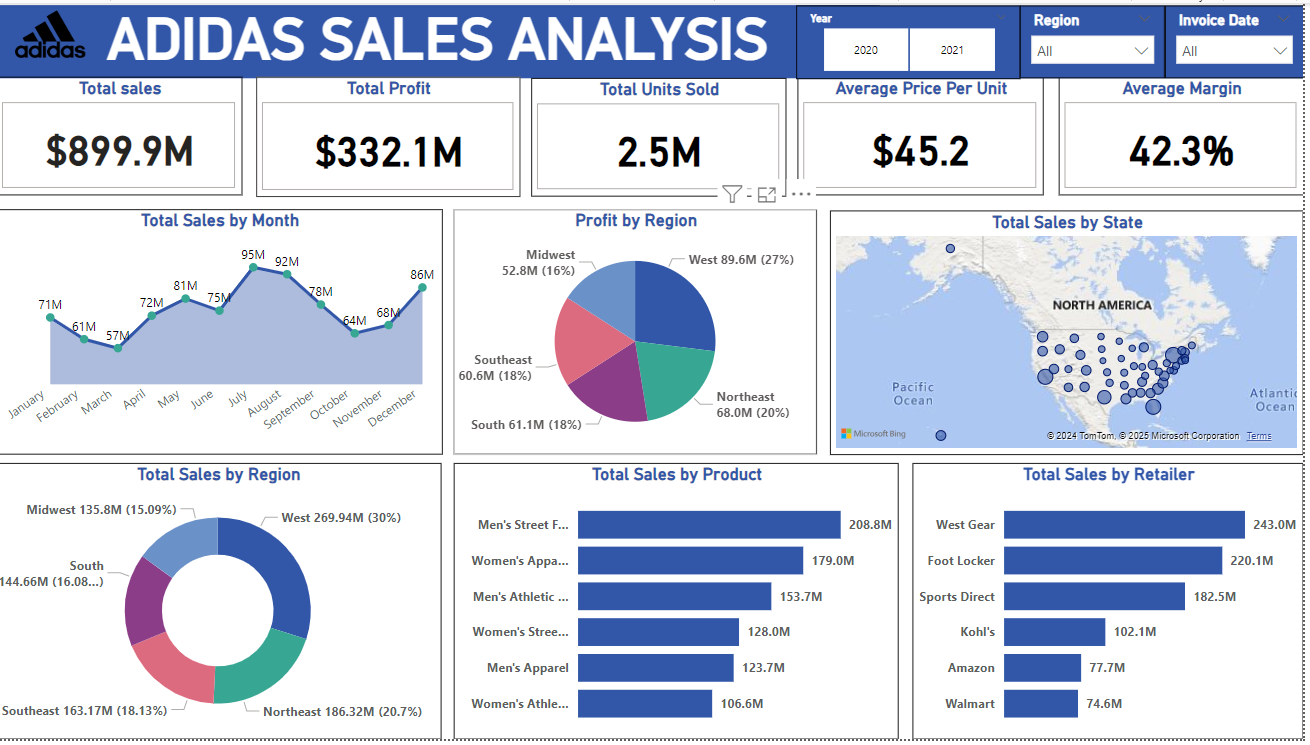

This screenshot's page, from the dashboard's own definition file:
{"tool":"powerbi","page":{"name":"Page 1","canvas":[1280,720],"ordinal":0},"visuals":[{"type":"textbox","title":"ADIDAS SALES ANALYSIS","box":[0,2.4,865.8,70.9],"z":0},{"type":"image","box":[1.2,2.4,106.4,56.3],"z":1000},{"type":"cardVisual","title":"Total sales","fields":{"Data":["Sum(Data Sales Adidas.Total Sales)"]},"box":[1.2,72.1,240.9,116.2],"z":2000},{"type":"cardVisual","title":"Total Units Sold","fields":{"Data":["Sum(Data Sales Adidas.Units Sold)"]},"box":[524.6,73.4,249.5,116.2],"z":3000},{"type":"cardVisual","title":"Total Profit","fields":{"Data":["Sum(Data Sales Adidas.Operating Profit)"]},"box":[255.6,72.1,258,117.4],"z":4000},{"type":"cardVisual","title":"Average Price Per Unit","fields":{"Data":["Data Sales Adidas.Average Price Per Unit"]},"box":[785.1,72.1,240.9,116.2],"z":5000},{"type":"cardVisual","title":"Average Margin","fields":{"Data":["Data Sales Adidas.Average Margin"]},"box":[1040.6,72.1,239.7,116.2],"z":6000},{"type":"stackedAreaChart","title":"Total Sales by Month","fields":{"Category":["Data Sales Adidas.Invoice Date.Variation.Date Hierarchy.Month"],"Y":["Sum(Data Sales Adidas.Total Sales)"]},"box":[1.2,201.8,436.6,239.7],"z":7000},{"type":"map","title":"Total Sales by State","fields":{"Category":["Data Sales Adidas.State"],"Size":["Sum(Data Sales Adidas.Total Sales)"]},"box":[816.7,203.3,463.3,238.9],"z":8000},{"type":"donutChart","title":"Total Sales by Region","fields":{"Y":["Sum(Data Sales Adidas.Total Sales)"],"Category":["Data Sales Adidas.Region"]},"box":[0,450,436.6,270.2],"z":9000},{"type":"clusteredBarChart","title":"Total Sales by Product","fields":{"Y":["Sum(Data Sales Adidas.Total Sales)"],"Category":["Data Sales Adidas.Product"]},"box":[448.8,450,435.3,270.2],"z":10000},{"type":"clusteredBarChart","title":"Total Sales by Retailer","fields":{"Y":["Sum(Data Sales Adidas.Total Sales)"],"Category":["Data Sales Adidas.Retailer"]},"box":[897.6,450,382.7,270.2],"z":11000},{"type":"slicer","fields":{"Values":["Data Sales Adidas.Region"]},"box":[1002.7,2.4,141.8,70.9],"z":12000},{"type":"slicer","fields":{"Values":["Data Sales Adidas.Invoice Date"]},"box":[1144.6,2.4,135.7,70.9],"z":13000},{"type":"pieChart","title":"Profit by Region","fields":{"Category":["Data Sales Adidas.Region"],"Y":["Sum(Data Sales Adidas.Operating Profit)"]},"box":[448.9,202.2,355.6,240],"z":14000},{"type":"slicer","fields":{"Values":["Data Sales Adidas.Invoice Date.Variation.Date Hierarchy.Year"]},"box":[783.8,2.4,218.9,72.1],"z":15000}]}

Visuals, with their boxes in screenshot pixels (x1, y1, x2, y2), scaled from the page's 1280x720 canvas onto the 1310x745 screenshot:
"ADIDAS SALES ANALYSIS" textbox: bbox(0, 2, 886, 76)
image: bbox(1, 2, 110, 61)
"Total sales" cardVisual: bbox(1, 75, 248, 195)
"Total Units Sold" cardVisual: bbox(537, 76, 792, 196)
"Total Profit" cardVisual: bbox(262, 75, 526, 196)
"Average Price Per Unit" cardVisual: bbox(804, 75, 1050, 195)
"Average Margin" cardVisual: bbox(1065, 75, 1309, 195)
"Total Sales by Month" stackedAreaChart: bbox(1, 209, 448, 457)
"Total Sales by State" map: bbox(836, 210, 1309, 458)
"Total Sales by Region" donutChart: bbox(0, 466, 447, 744)
"Total Sales by Product" clusteredBarChart: bbox(459, 466, 905, 744)
"Total Sales by Retailer" clusteredBarChart: bbox(919, 466, 1309, 744)
slicer - Data Sales Adidas.Region: bbox(1026, 2, 1171, 76)
slicer - Data Sales Adidas.Invoice Date: bbox(1171, 2, 1309, 76)
"Profit by Region" pieChart: bbox(459, 209, 823, 458)
slicer - Data Sales Adidas.Invoice Date.Variation.Date Hierarchy.Year: bbox(802, 2, 1026, 77)
